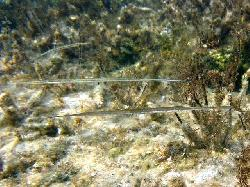Fistularia commersonii: (39, 89, 239, 136), (3, 64, 220, 99)
